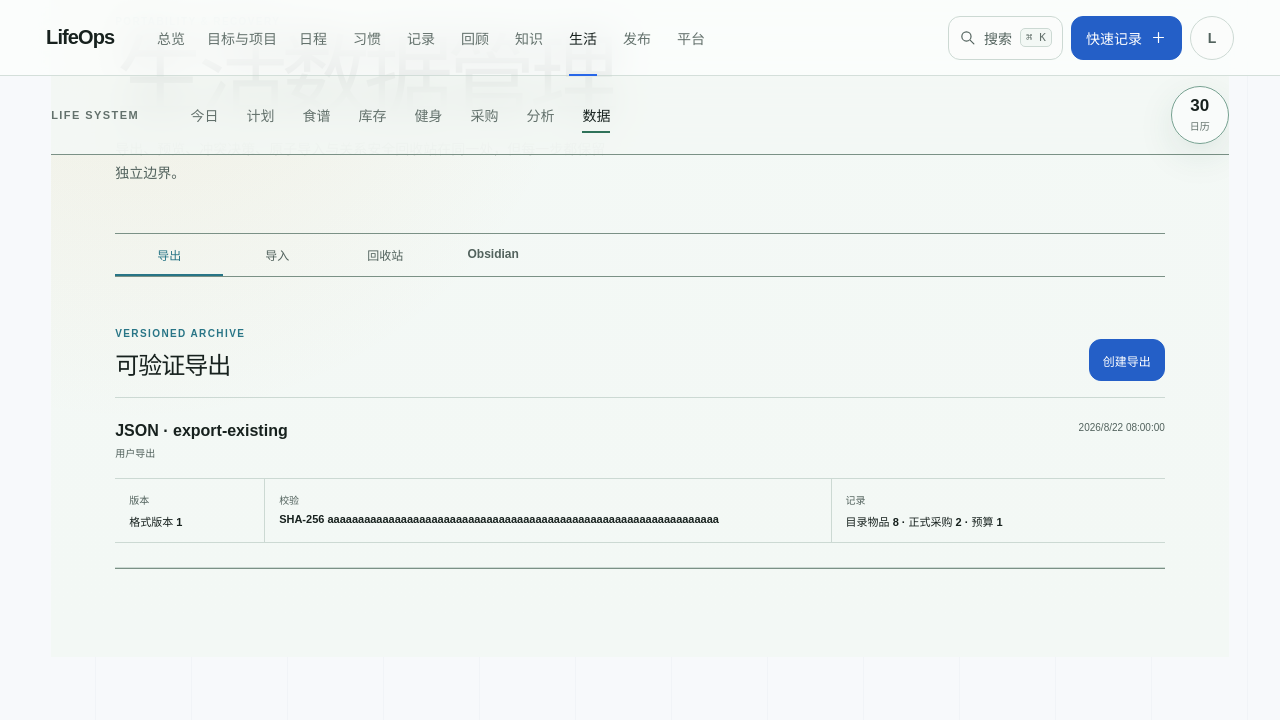
Test case: life export, import and recovery workspace › shows versioned export manifests, attachment boundaries and the existing relationship-safe trash without conflating them
(page scrolled)
expect the heading "生活数据管理" is shown: met, box [115,37,614,119]
expect the navigation bar named "生活数据分区" is shown: met, box [115,234,1165,277]
Click the button "创建导出".
click(1127, 360)  # box [1089,339,1165,381]
(page scrolled)
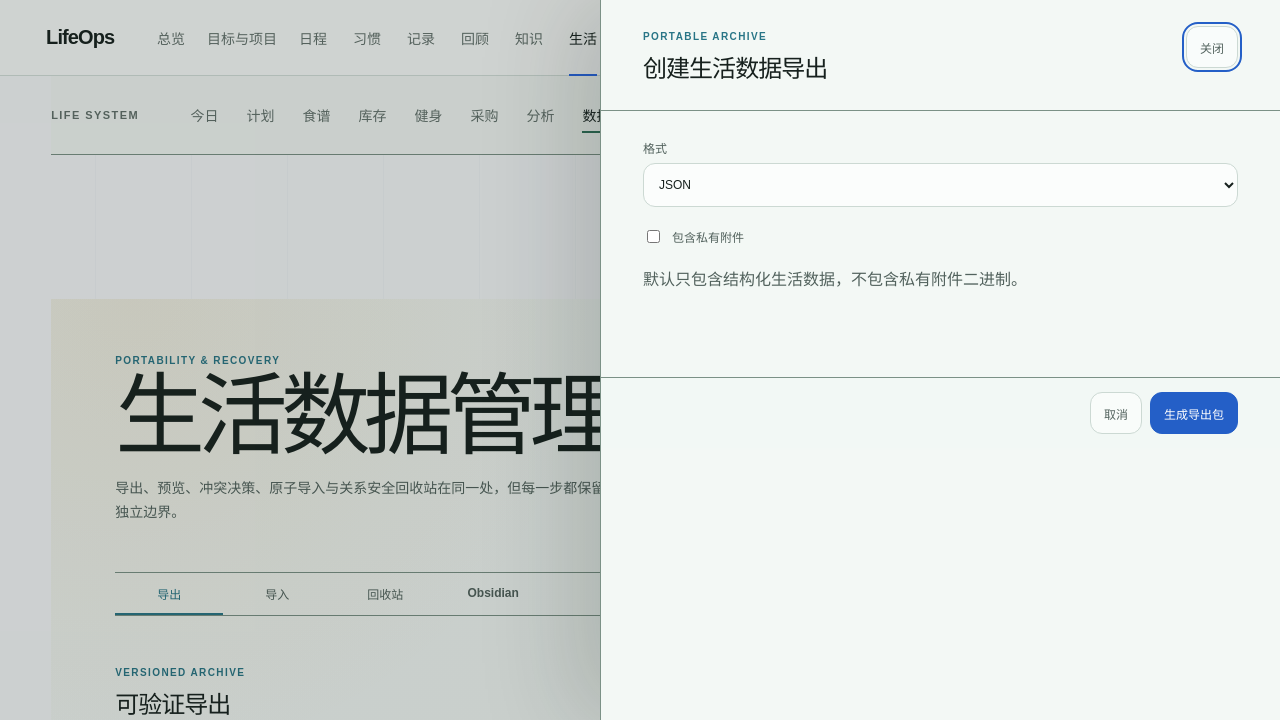
Select "ZIP" in the dropdown labelled "格式" at (940, 185), box [643,163,1238,207]
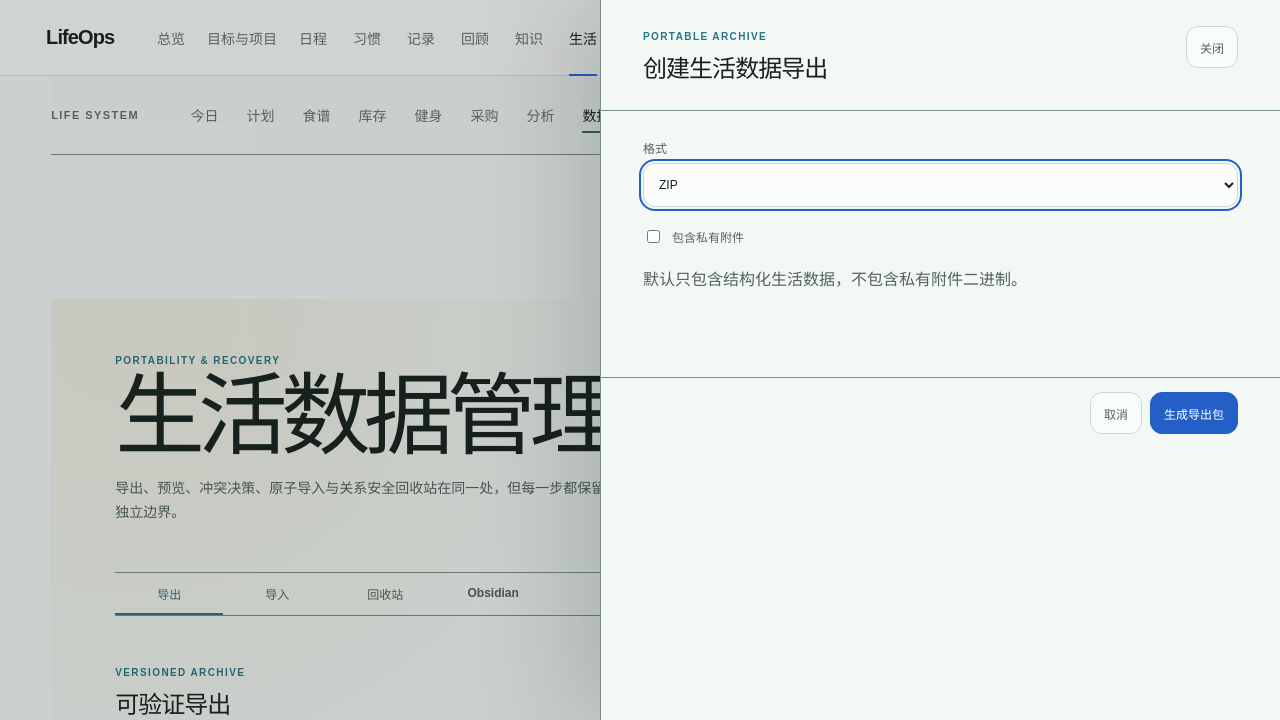
Click the checkbox labelled "包含私有附件".
click(654, 236)  # box [647,230,660,243]
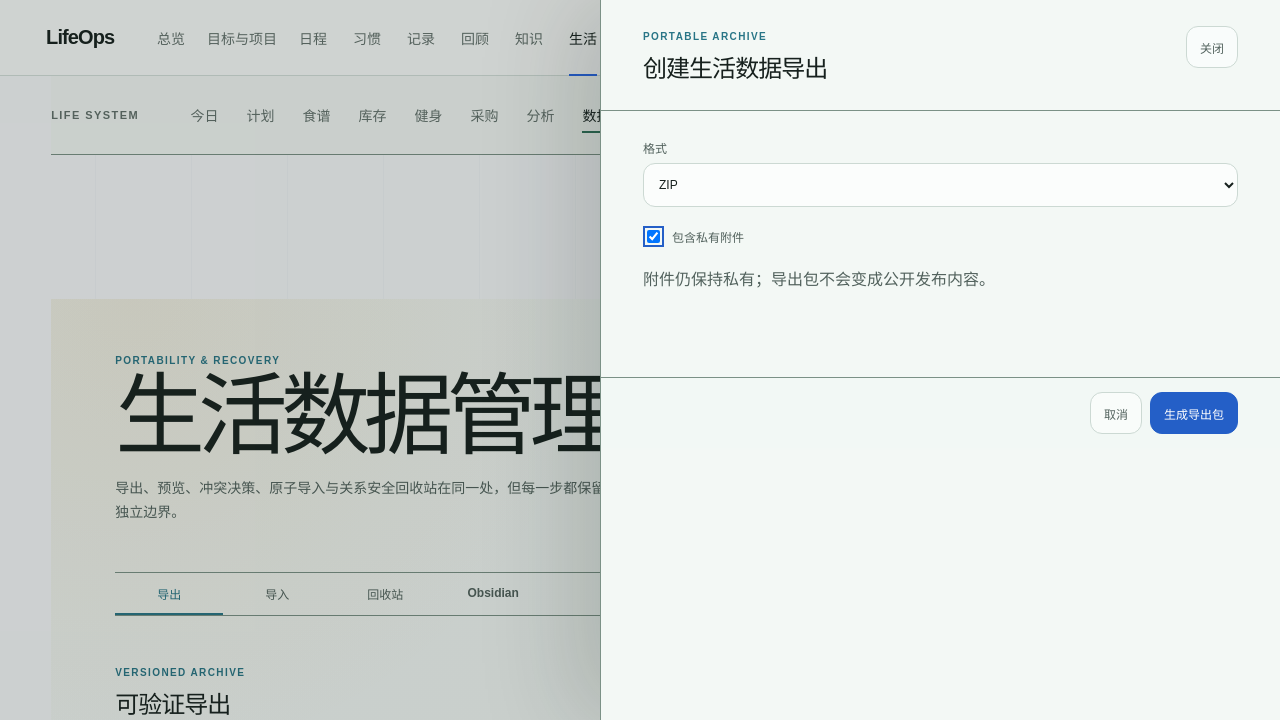
expect the text "附件仍保持私有；导出包不会变成公开发布内容。" is shown: met, box [643,271,995,288]
Click the button "生成导出包".
click(1194, 413)  # box [1150,392,1238,434]
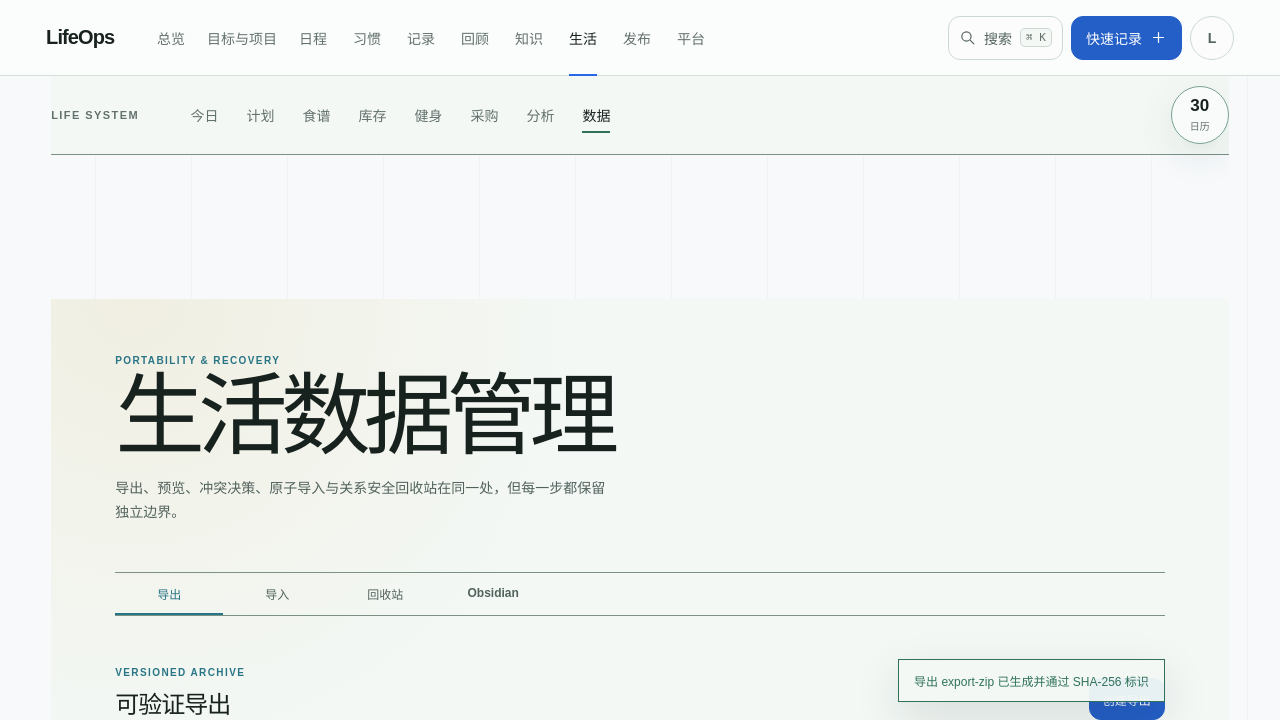
Click the tab "回收站".
click(385, 594)  # box [331,573,439,615]
(page scrolled)
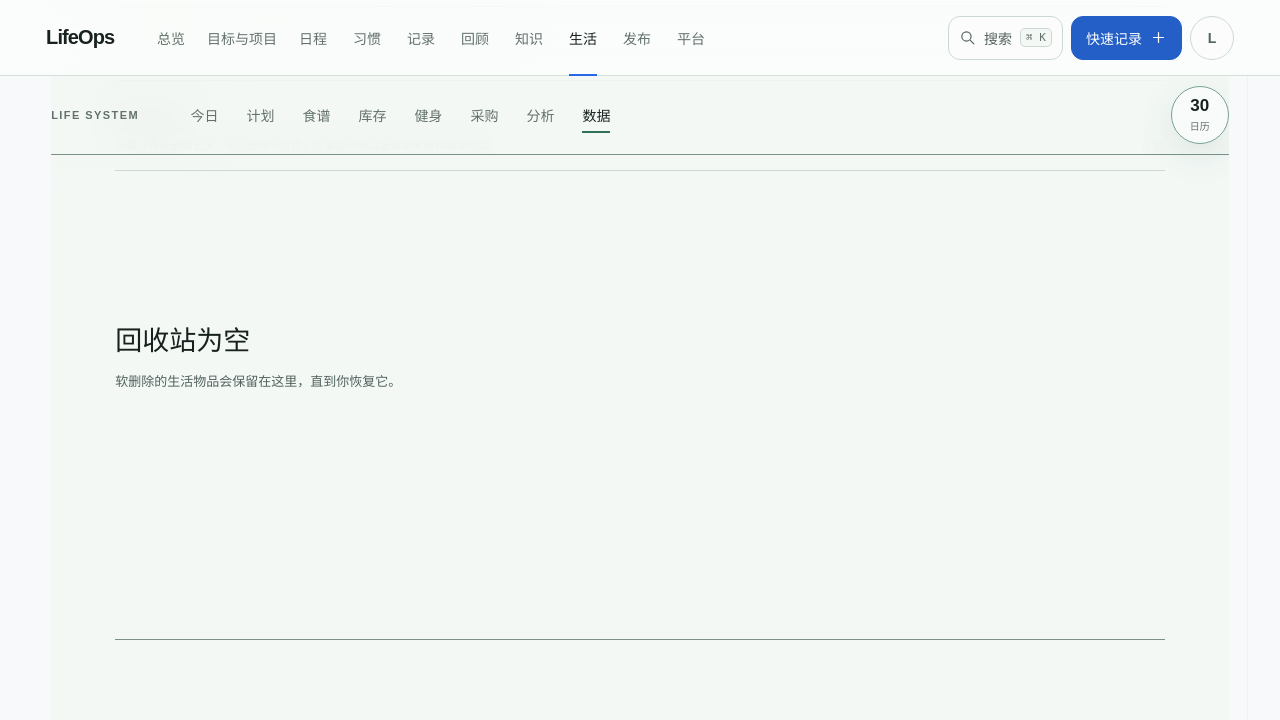
expect the element named "生活数据回收站" is shown: met
